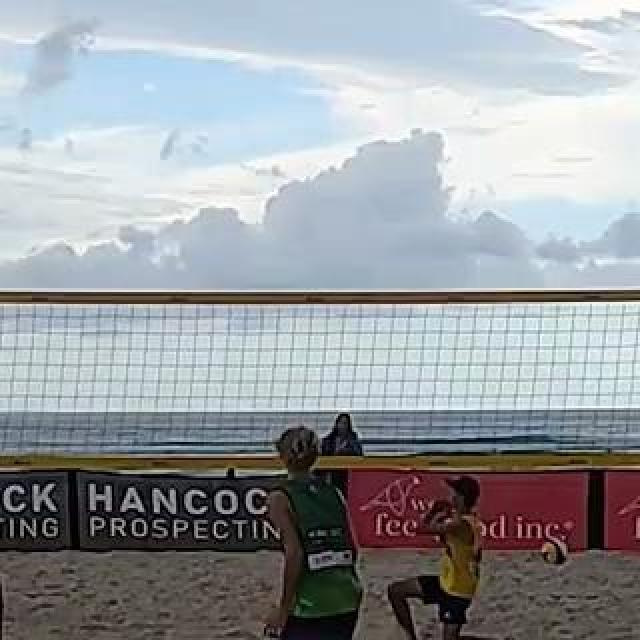volleyball: (539, 536, 571, 566)
